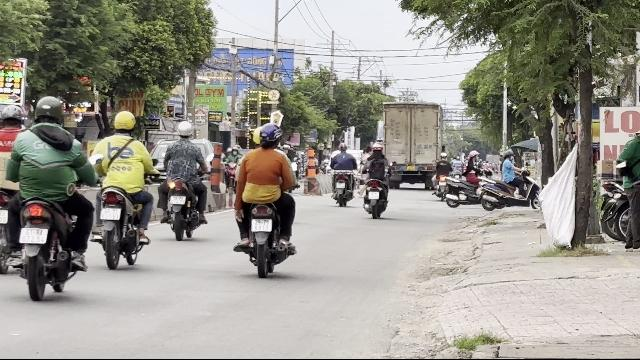helmet: (33, 94, 65, 126), (255, 122, 281, 148), (112, 110, 136, 134), (1, 103, 23, 127), (177, 121, 193, 139)
licenseplate: (19, 228, 47, 244), (252, 220, 272, 232), (100, 208, 120, 220), (170, 196, 186, 204)
motorcyclist: (0, 94, 94, 300), (230, 120, 298, 276), (91, 109, 155, 268), (158, 121, 208, 240), (0, 96, 24, 276), (610, 104, 638, 252)
